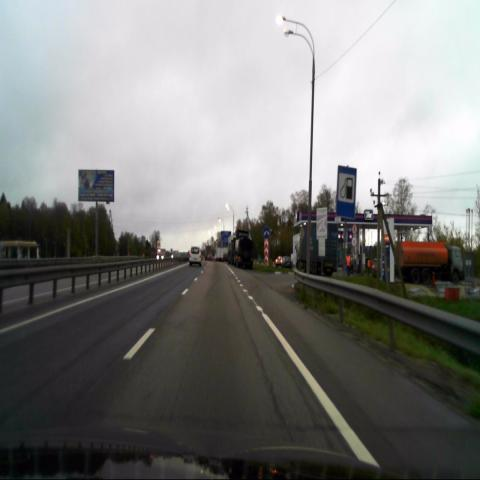7_3: (336, 164, 357, 221)
